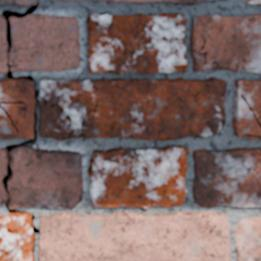brick: (38, 78, 225, 139), (39, 212, 229, 260), (89, 146, 187, 208), (87, 13, 187, 73), (190, 14, 260, 72), (193, 148, 260, 206), (0, 79, 34, 138), (232, 80, 260, 136), (0, 215, 33, 260), (235, 218, 260, 260), (98, 0, 212, 4), (0, 0, 37, 5), (244, 0, 260, 3), (57, 0, 77, 1)
broken_brick: (9, 147, 83, 209), (9, 13, 80, 72), (0, 17, 7, 74), (0, 147, 5, 178), (0, 183, 6, 206)
crack: (0, 2, 40, 258), (50, 94, 99, 139), (191, 32, 219, 65), (240, 93, 260, 127), (242, 133, 260, 138)
